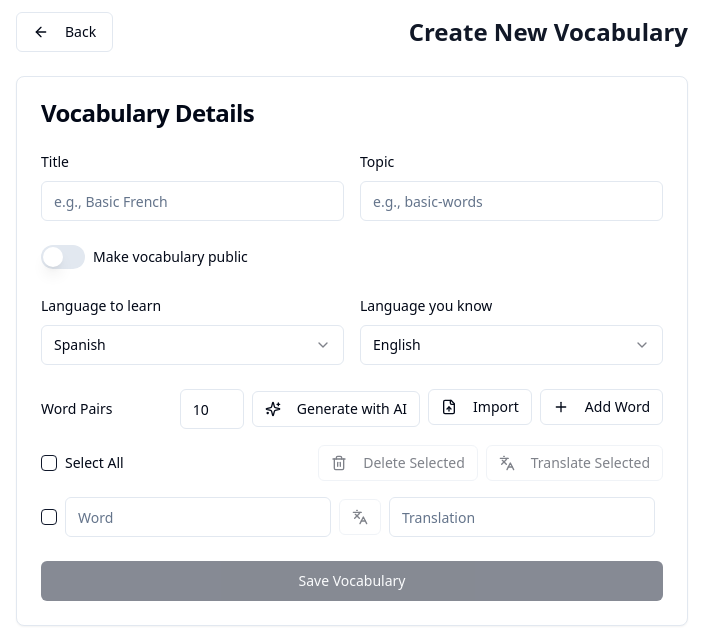
Test: CreateVocabulary Component › Word Translation › successfully translates a word
In the field with placeholder "Word": (198, 517) [65,497,331,537], type "TestWord"
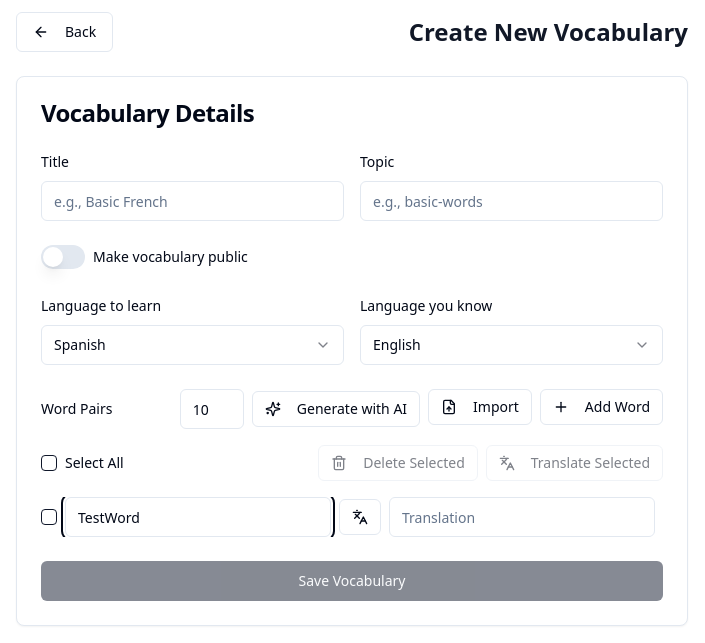
Click the button with test id "translate-word-0": (360, 517) [339,499,381,535]
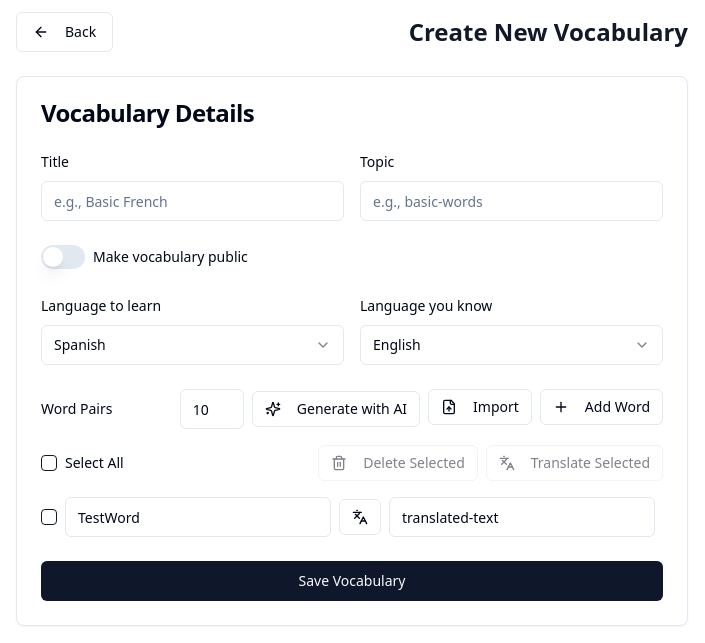
Now the 2nd field with placeholder "Translation" holds "translated-text", box [389,497,655,537]
